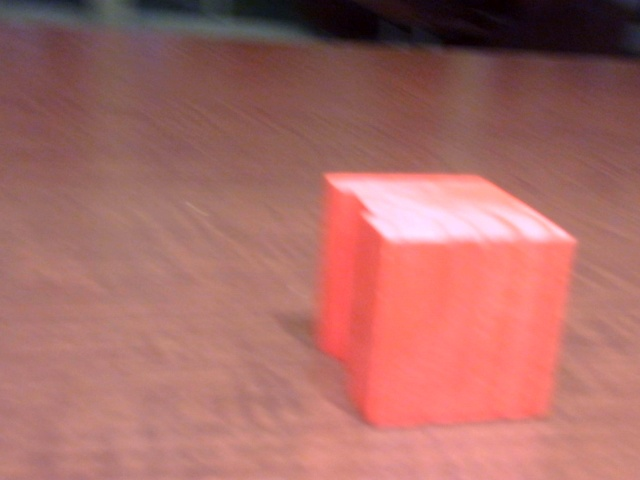RedBlock: (323, 172, 556, 421)
